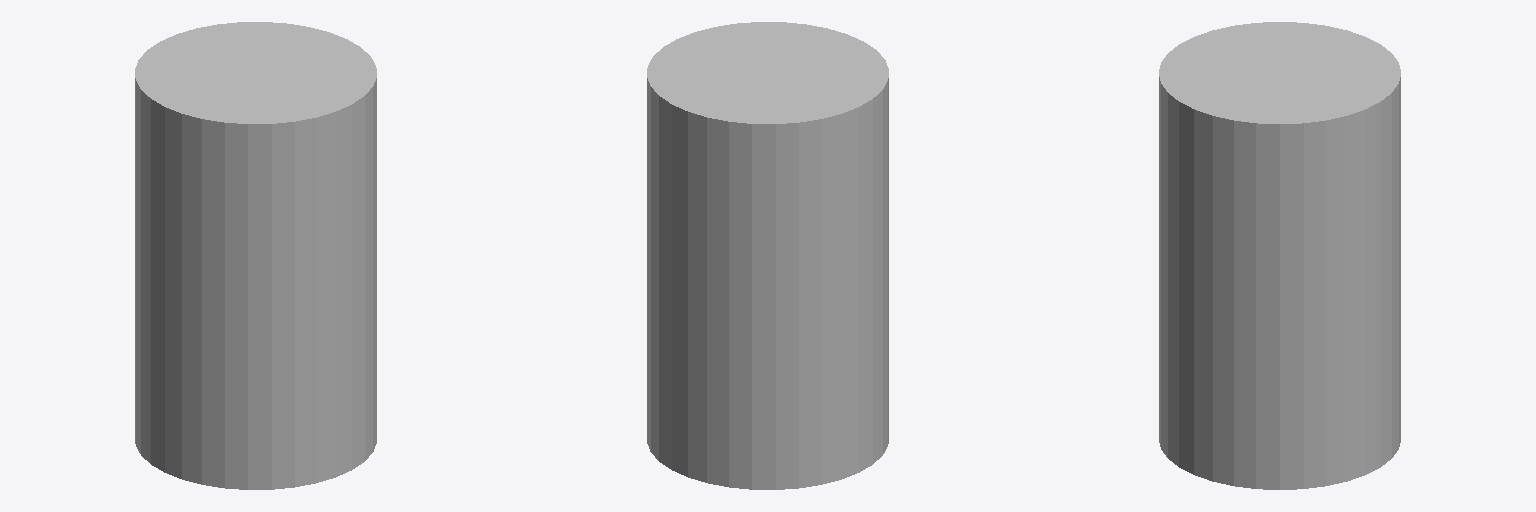
The model's file is cyinder.obj.
3 views of the same model, side by side, from view 1: azimuth 30°, elevation 25°; view 2: azimuth 150°, elevation 25°; view 3: azimuth 270°, elevation 25° (orthographic).
Visible parts, largest first — view 1: Cylinder; view 2: Cylinder; view 3: Cylinder.
Part boxes in pixels (x1,y1,x2,y2): Cylinder: (135,22,376,489); Cylinder: (647,22,888,489); Cylinder: (1159,22,1400,489).
Bounding box in the file's own units: 1.25 × 2.08 × 1.25.